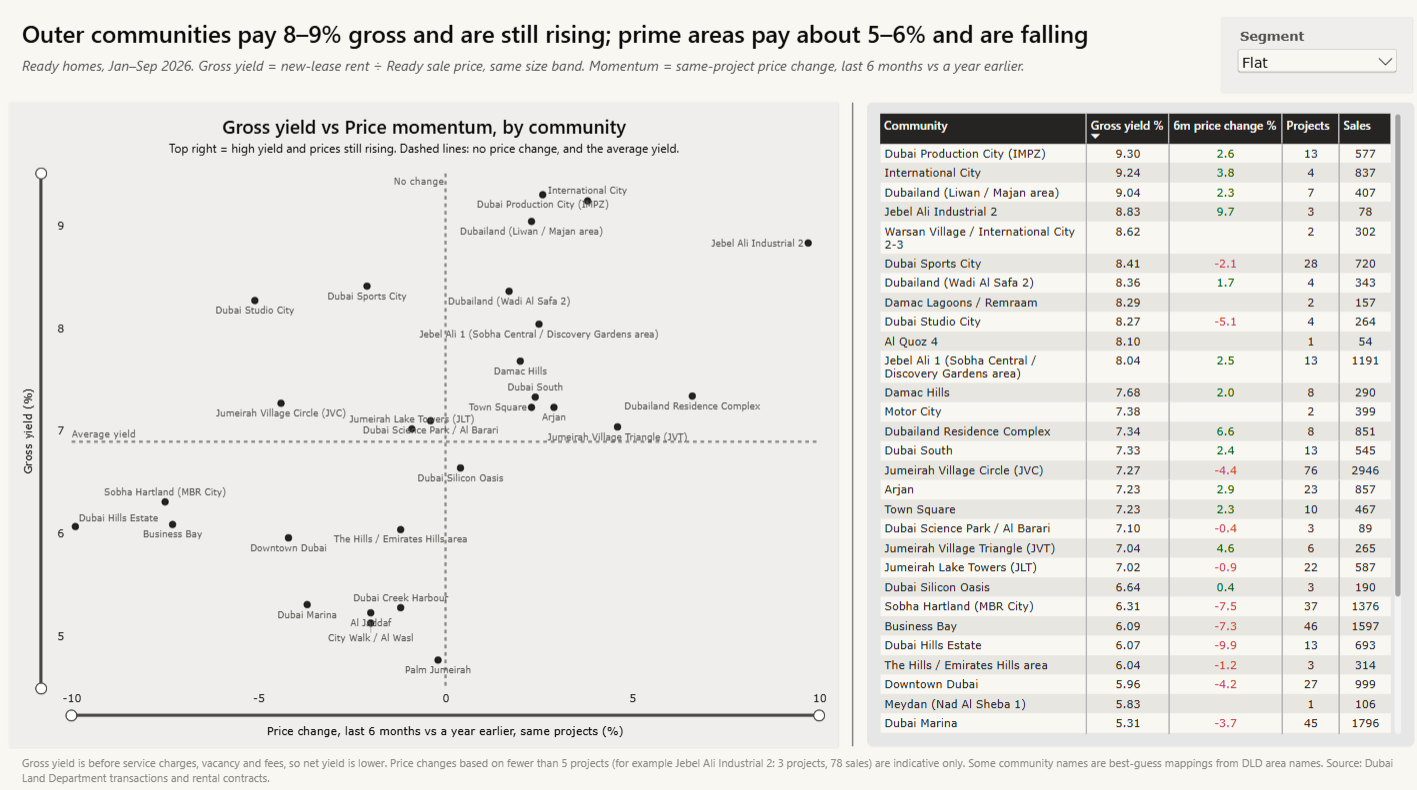

The dashboard page shown, as its layout file describes it:
{"tool":"powerbi","page":{"name":"Where to invest","canvas":[1920,1080],"ordinal":0},"visuals":[{"type":"textbox","box":[40,36.7,1450,101.7],"z":0,"group":"g1"},{"type":"slicer","fields":{"Values":["community_scorecard.segment"]},"box":[1643.3,36.7,254.7,99.4],"z":0},{"type":"textbox","box":[40,88.4,1400,52],"z":1000,"group":"g1"},{"type":"scatterChart","title":"Gross yield vs Price momentum, by community","fields":{"Category":["community_scorecard.community_name"],"X":["Avg(community_scorecard.price_yoy_6m_pct)"],"Y":["Avg(community_scorecard.gross_yield_pct)"]},"box":[22.7,150,1107.6,861.6],"z":1000},{"type":"tableEx","title":"All communities, ranked by gross yield","fields":{"Values":["community_scorecard.community_name","Sum(community_scorecard.gross_yield_pct)","Sum(community_scorecard.price_yoy_6m_pct)","Sum(community_scorecard.projects_6m)","Sum(community_scorecard.n_sales)"]},"box":[1168.6,150,730.8,861.6],"z":2000},{"type":"textbox","box":[40.1,1023.8,1840,56],"z":3000},{"type":"shape","box":[1130.2,150,38.4,861.6],"z":4000},{"type":"group","id":"g1","title":"Group 1","box":[40,36.7,1450,103.3],"z":5000}]}

Visuals, with their boxes in screenshot pixels (x1, y1, x2, y2), scaled from the page's 1920x1080 canvas onto the 1417x790 screenshot:
textbox: 30 27 1100 101
slicer - community_scorecard.segment: 1213 27 1401 100
textbox: 30 65 1063 103
"Gross yield vs Price momentum, by community" scatterChart: 17 110 834 740
"All communities, ranked by gross yield" tableEx: 862 110 1402 740
textbox: 30 749 1388 789
shape: 834 110 862 740
"Group 1" group: 30 27 1100 102
